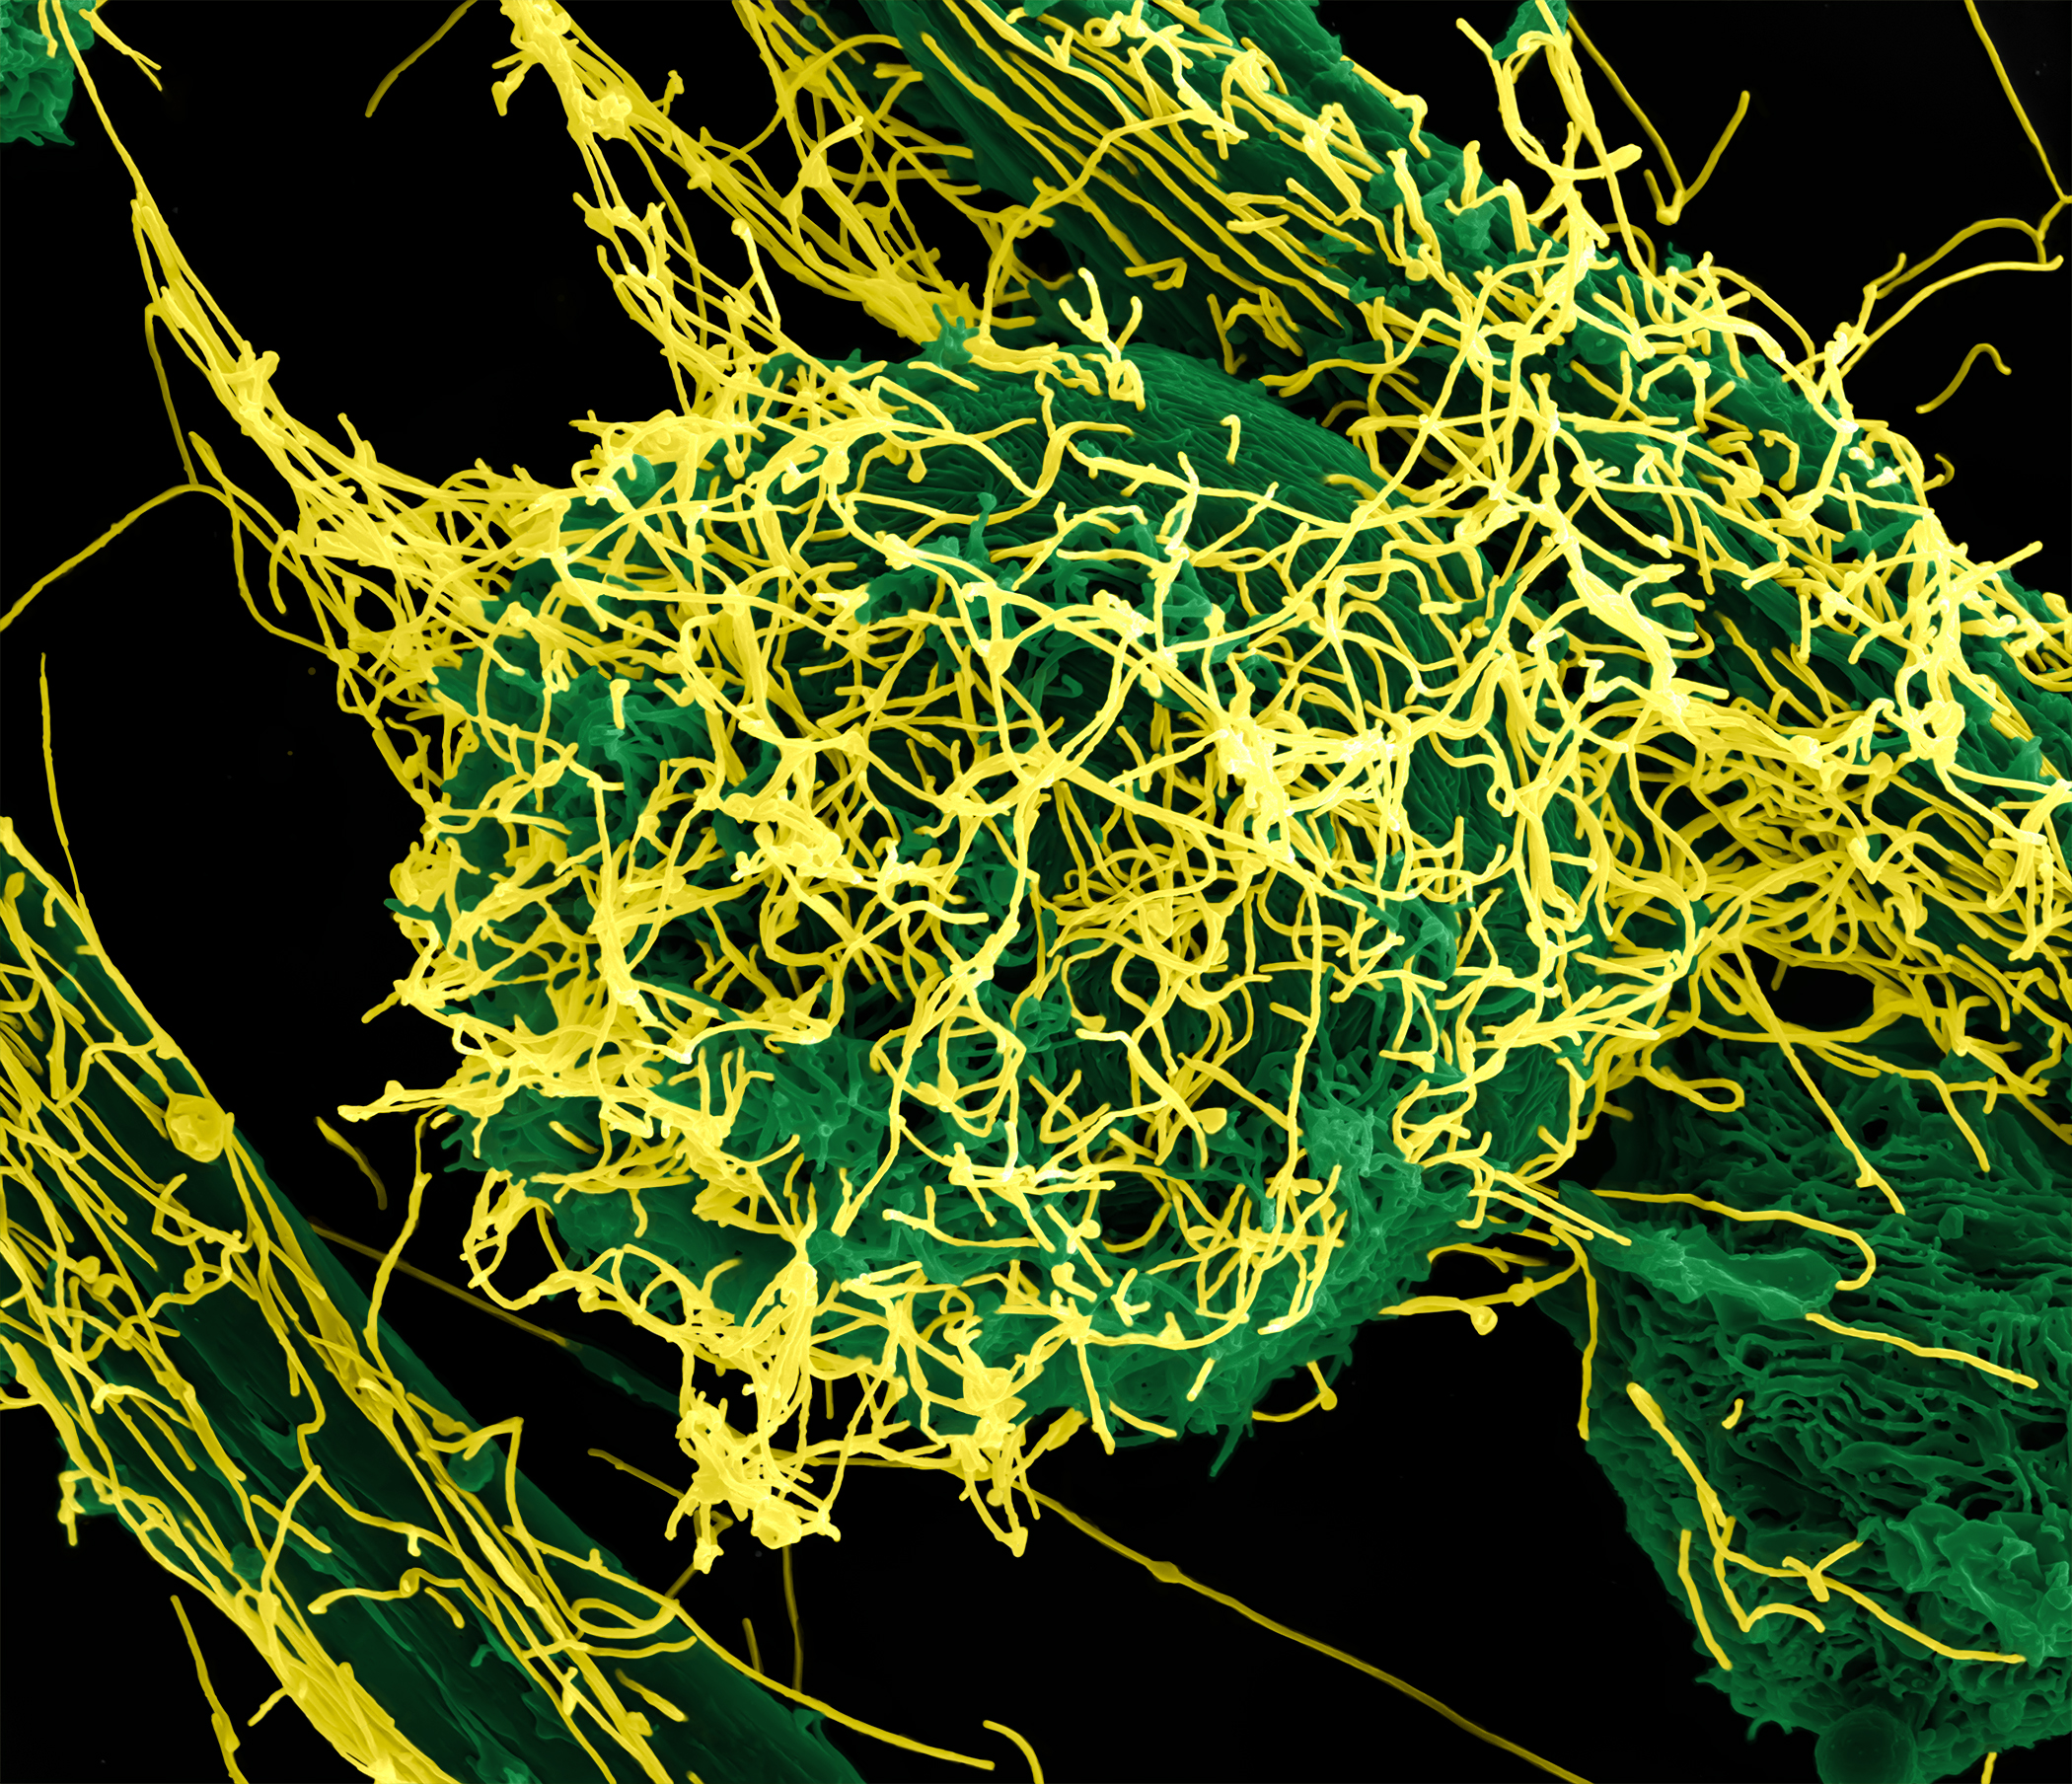EBOLA: (238, 219, 1769, 1340)
